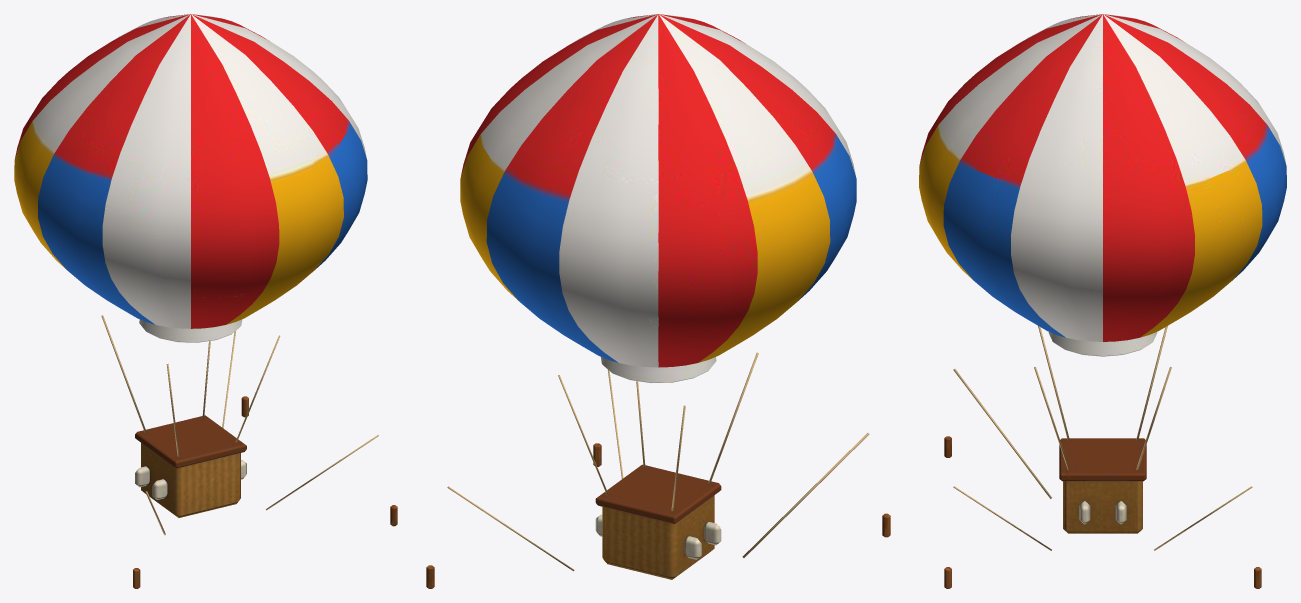
The model's file is hot_air_balloon.glb.
The picture shows the model from 3 angles, left to right: view 1: azimuth 30°, elevation 25°; view 2: azimuth 150°, elevation 25°; view 3: azimuth 270°, elevation 25°; orthographic projection. The views are drawn at different scales.
Parts seen in each view (by area): view 1: swayY_envelope, hot_air_balloon; view 2: swayY_envelope, hot_air_balloon; view 3: swayY_envelope, hot_air_balloon.
Boxes of the visible parts, x1=… form: swayY_envelope: x1=14, y1=14, x2=367, y2=342; hot_air_balloon: x1=101, y1=315, x2=397, y2=588; swayY_envelope: x1=460, y1=14, x2=856, y2=383; hot_air_balloon: x1=426, y1=352, x2=890, y2=588; swayY_envelope: x1=919, y1=14, x2=1286, y2=356; hot_air_balloon: x1=944, y1=326, x2=1261, y2=588.
Bounding box in the file's own units: 2.02 × 3.1 × 2.02.
1 material, 1 textured.
